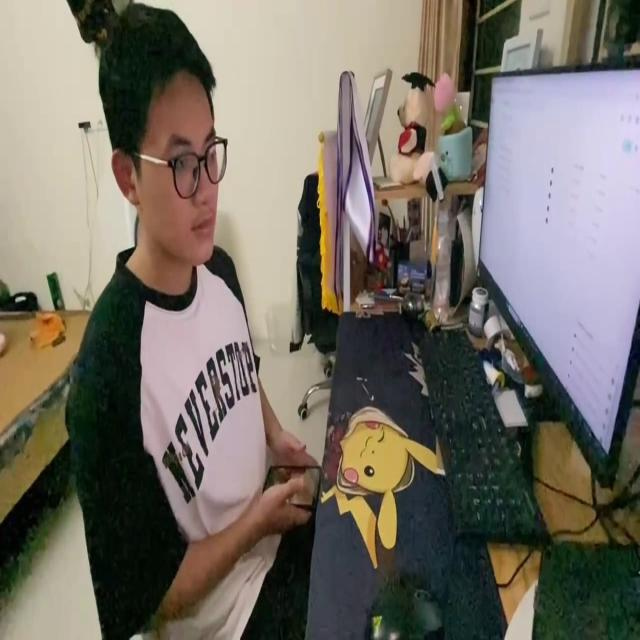laptop: (471, 70, 640, 493)
phone: (263, 456, 323, 517)
student: (57, 1, 319, 637)
